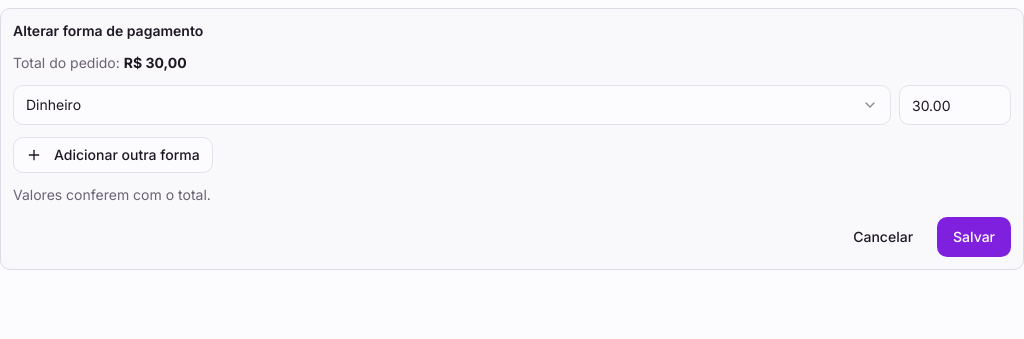
Test: alteração de pagamento no detalhamento › salva R$ 10 em dinheiro e R$ 20 no Pix em um pedido aberto de R$ 30
The width and height of the screenshot is (1024, 339).
Later steps or results of the test are not shown.
Replace the text in the field with placeholder "0,00" with "10" at (955, 105), box x1=899 y1=85 x2=1011 y2=125
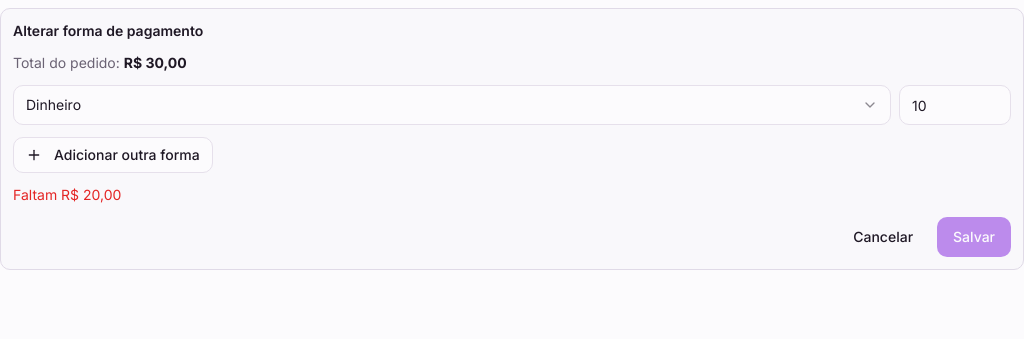
Click the button "Adicionar outra forma" at (113, 155), box x1=13 y1=137 x2=213 y2=173
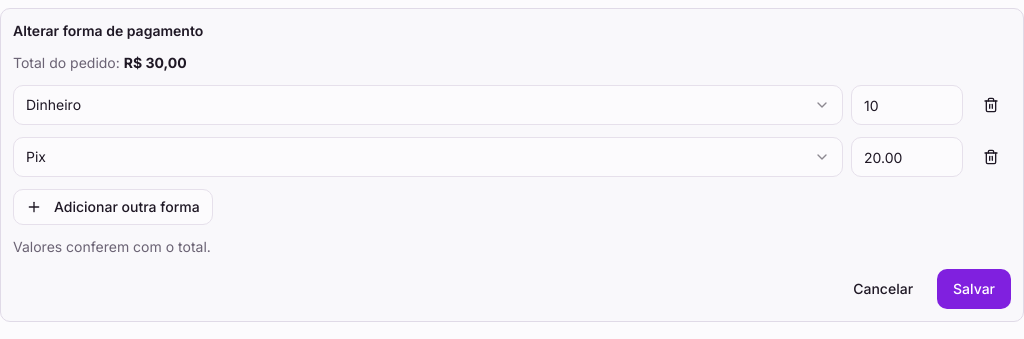
Check: the number of fields with placeholder "0,00" is 2, box x1=851 y1=85 x2=963 y2=125; x1=851 y1=137 x2=963 y2=177
Check: the 2nd field with placeholder "0,00" holds "20.00", box x1=851 y1=137 x2=963 y2=177
Check: the text "Valores conferem com o total." is shown, box x1=13 y1=238 x2=211 y2=255
